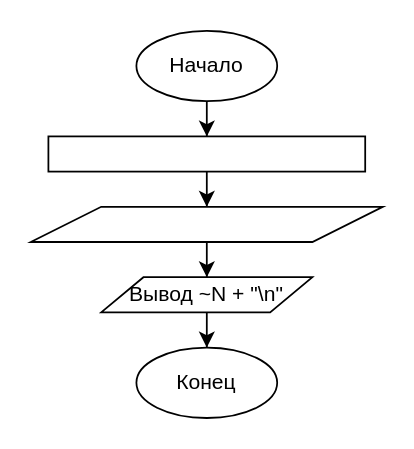
This 414x449 diagram has some shape labels left out. Each missing label, with the centre of its shape:
"Ввод значения числа N" goes at [206,223].
"Целое беззнаковое число N" goes at [206,153].
